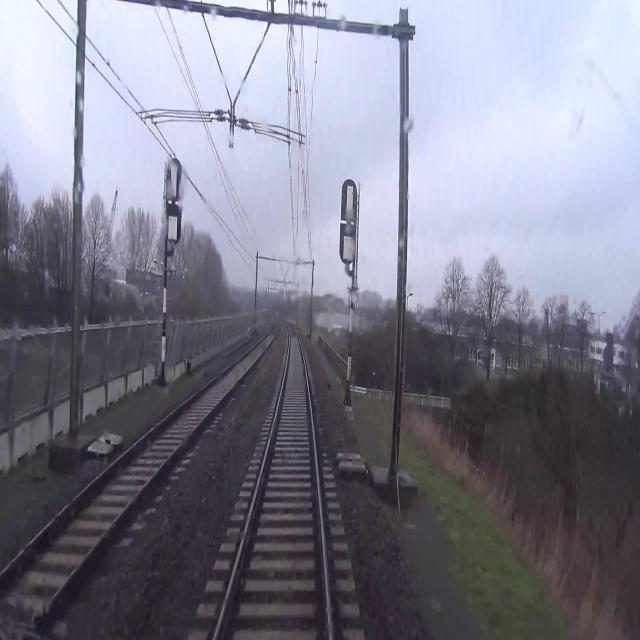rail-track: (0, 325, 276, 620), (219, 324, 327, 639)
